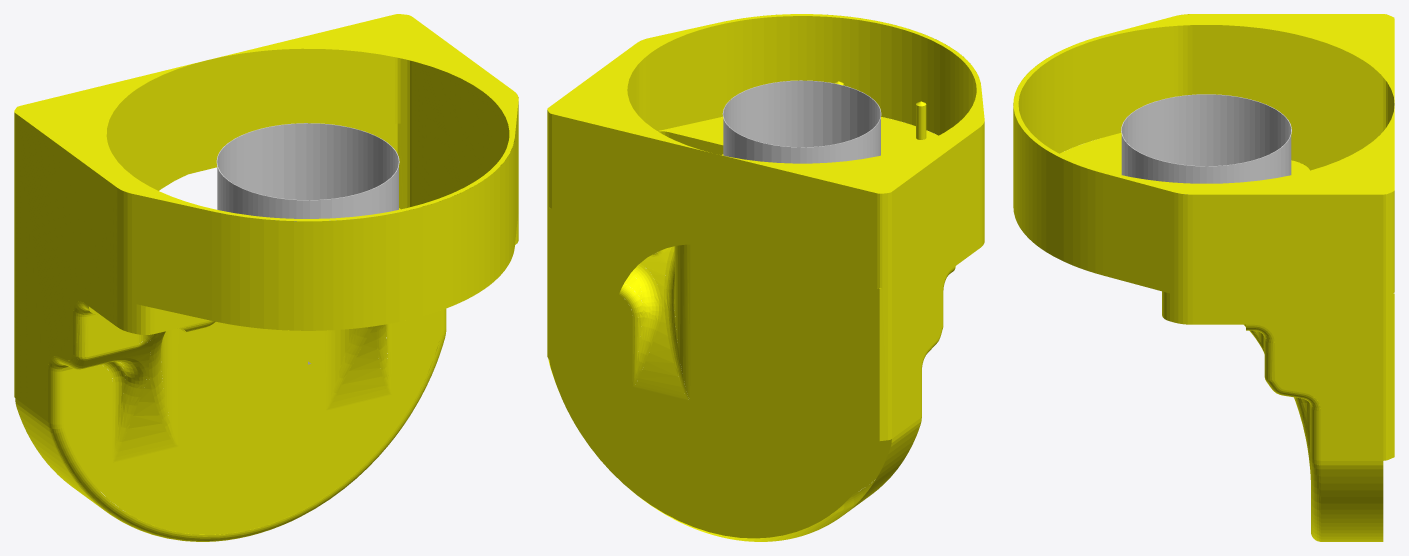
3 renders of one model, left to right at view 1: azimuth 30°, elevation 25°; view 2: azimuth 150°, elevation 25°; view 3: azimuth 270°, elevation 25°, orthographic. The views are drawn at different scales.
Visible parts, largest first — view 1: node; view 2: node; view 3: node.
Boxes of the visible parts, bbox=[...] form: node: bbox=[14, 14, 518, 541]; node: bbox=[547, 14, 984, 541]; node: bbox=[1013, 14, 1394, 541].
Bounding box in the file's own units: 125 × 134 × 112.
